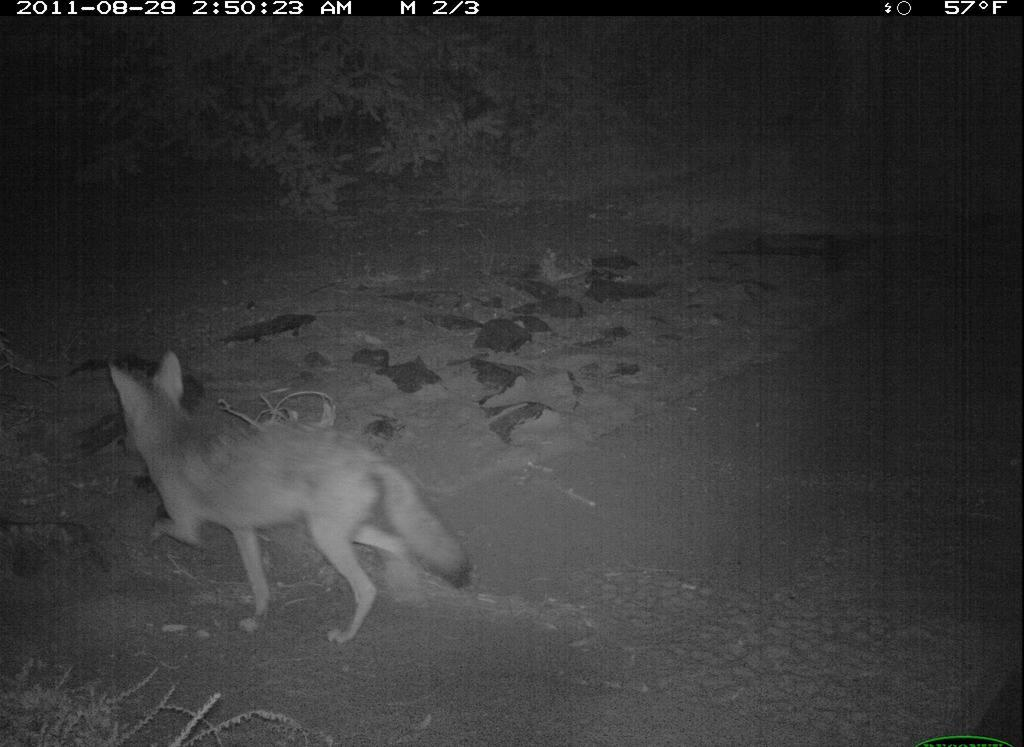coyote: (94, 344, 481, 655)
